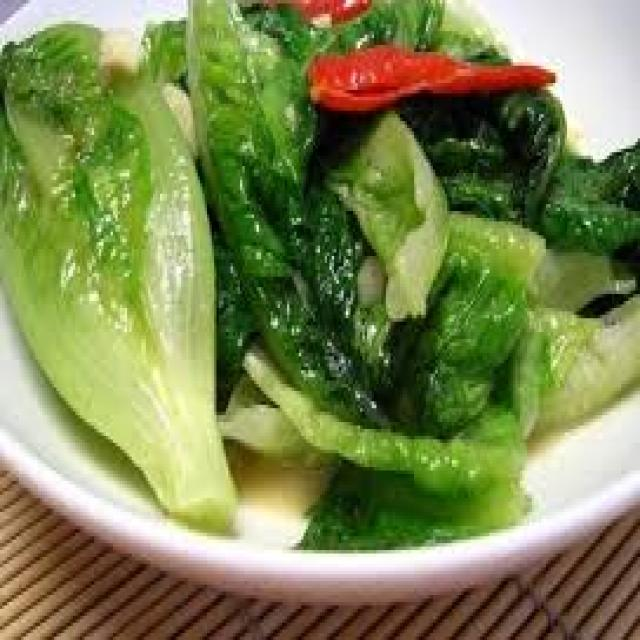organic waste: (0, 17, 238, 519), (181, 0, 381, 415), (214, 322, 534, 554), (358, 200, 536, 432), (393, 0, 565, 211), (318, 107, 444, 315), (510, 280, 638, 436), (306, 41, 550, 104), (522, 138, 638, 256), (230, 0, 444, 52), (530, 235, 638, 315), (144, 10, 188, 94), (160, 76, 198, 156), (96, 24, 144, 83), (244, 0, 390, 17), (353, 249, 386, 315)
